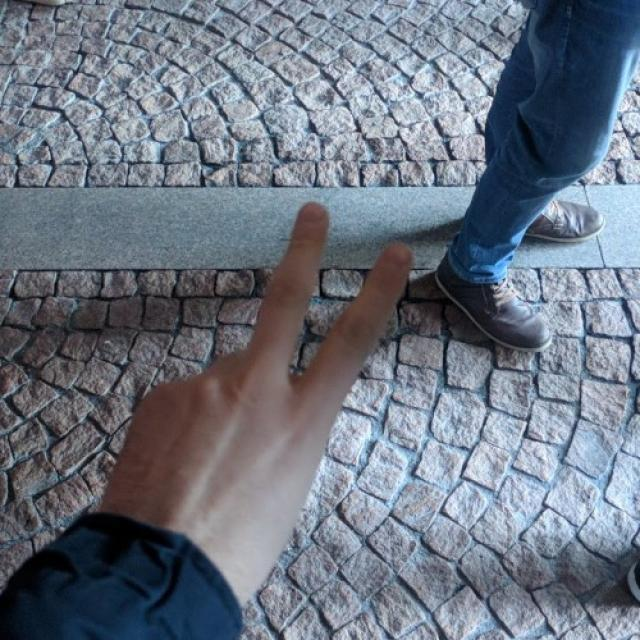scissors: (117, 196, 416, 499)
